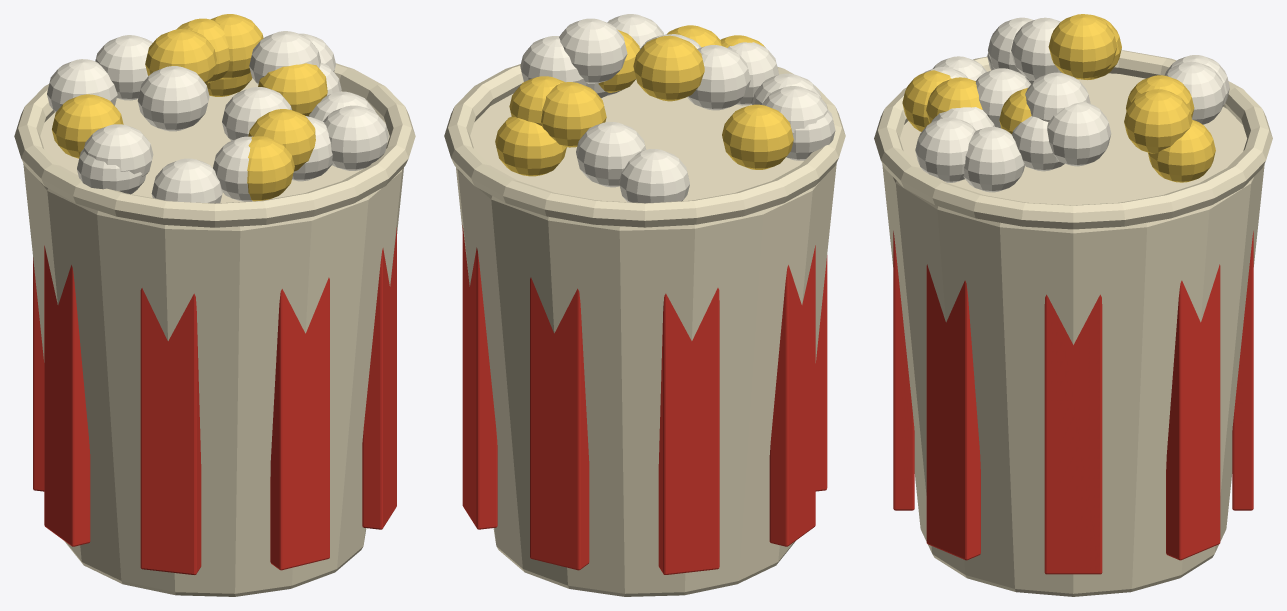
Rendered from P100_popcorn_bucket.glb.
3 views of the same model, side by side, from view 1: azimuth 30°, elevation 25°; view 2: azimuth 150°, elevation 25°; view 3: azimuth 270°, elevation 25° (orthographic).
Parts seen in each view (by area): view 1: P100_bucket_001, P100_stripe_007, P100_stripe_008, P100_rim_010, P100_stripe_006, P100_stripe_009, P100_popcorn_022, P100_popcorn_031, P100_popcorn_029, P100_popcorn_024, P100_popcorn_014, P100_popcorn_019 (+15 smaller); view 2: P100_bucket_001, P100_stripe_005, P100_stripe_004, P100_rim_010, P100_stripe_006, P100_stripe_003, P100_popcorn_029, P100_popcorn_014, P100_popcorn_018, P100_popcorn_028, P100_popcorn_027, P100_popcorn_017 (+12 smaller); view 3: P100_bucket_001, P100_stripe_002, P100_rim_010, P100_stripe_003, P100_stripe_009, P100_stripe_004, P100_stripe_008, P100_popcorn_014, P100_popcorn_011, P100_popcorn_021, P100_popcorn_030, P100_popcorn_031 (+14 smaller).
Boxes of the visible parts, x1=… form: P100_bucket_001: x1=23, y1=78, x2=403, y2=596; P100_stripe_007: x1=140, y1=288, x2=201, y2=574; P100_stripe_008: x1=270, y1=277, x2=329, y2=570; P100_rim_010: x1=14, y1=63, x2=415, y2=227; P100_stripe_006: x1=44, y1=245, x2=90, y2=546; P100_stripe_009: x1=362, y1=227, x2=396, y2=529; P100_popcorn_022: x1=137, y1=66, x2=209, y2=131; P100_popcorn_031: x1=323, y1=105, x2=388, y2=170; P100_popcorn_029: x1=52, y1=94, x2=123, y2=158; P100_popcorn_024: x1=151, y1=158, x2=222, y2=203; P100_popcorn_014: x1=145, y1=29, x2=216, y2=83; P100_popcorn_019: x1=83, y1=124, x2=153, y2=176; P100_bucket_001: x1=456, y1=79, x2=836, y2=596; P100_stripe_005: x1=658, y1=288, x2=719, y2=574; P100_stripe_004: x1=530, y1=277, x2=589, y2=570; P100_rim_010: x1=444, y1=64, x2=845, y2=227; P100_stripe_006: x1=769, y1=245, x2=815, y2=546; P100_stripe_003: x1=462, y1=225, x2=497, y2=529; P100_popcorn_029: x1=722, y1=104, x2=793, y2=169; P100_popcorn_014: x1=633, y1=35, x2=704, y2=101; P100_popcorn_018: x1=559, y1=18, x2=627, y2=83; P100_popcorn_028: x1=618, y1=149, x2=689, y2=203; P100_popcorn_027: x1=576, y1=122, x2=645, y2=187; P100_popcorn_017: x1=541, y1=82, x2=606, y2=147; P100_bucket_001: x1=882, y1=73, x2=1264, y2=596; P100_stripe_002: x1=1044, y1=294, x2=1102, y2=574; P100_rim_010: x1=874, y1=50, x2=1272, y2=229; P100_stripe_003: x1=1166, y1=264, x2=1220, y2=560; P100_stripe_009: x1=926, y1=264, x2=980, y2=560; P100_stripe_004: x1=1232, y1=231, x2=1253, y2=510; P100_stripe_008: x1=893, y1=231, x2=914, y2=510; P100_popcorn_014: x1=1048, y1=14, x2=1117, y2=79; P100_popcorn_011: x1=1124, y1=89, x2=1192, y2=153; P100_popcorn_021: x1=1047, y1=101, x2=1111, y2=166; P100_popcorn_030: x1=963, y1=127, x2=1024, y2=192; P100_popcorn_031: x1=915, y1=117, x2=976, y2=182.
Size of the model in its own units: 0.186 by 0.2589 by 0.186.
